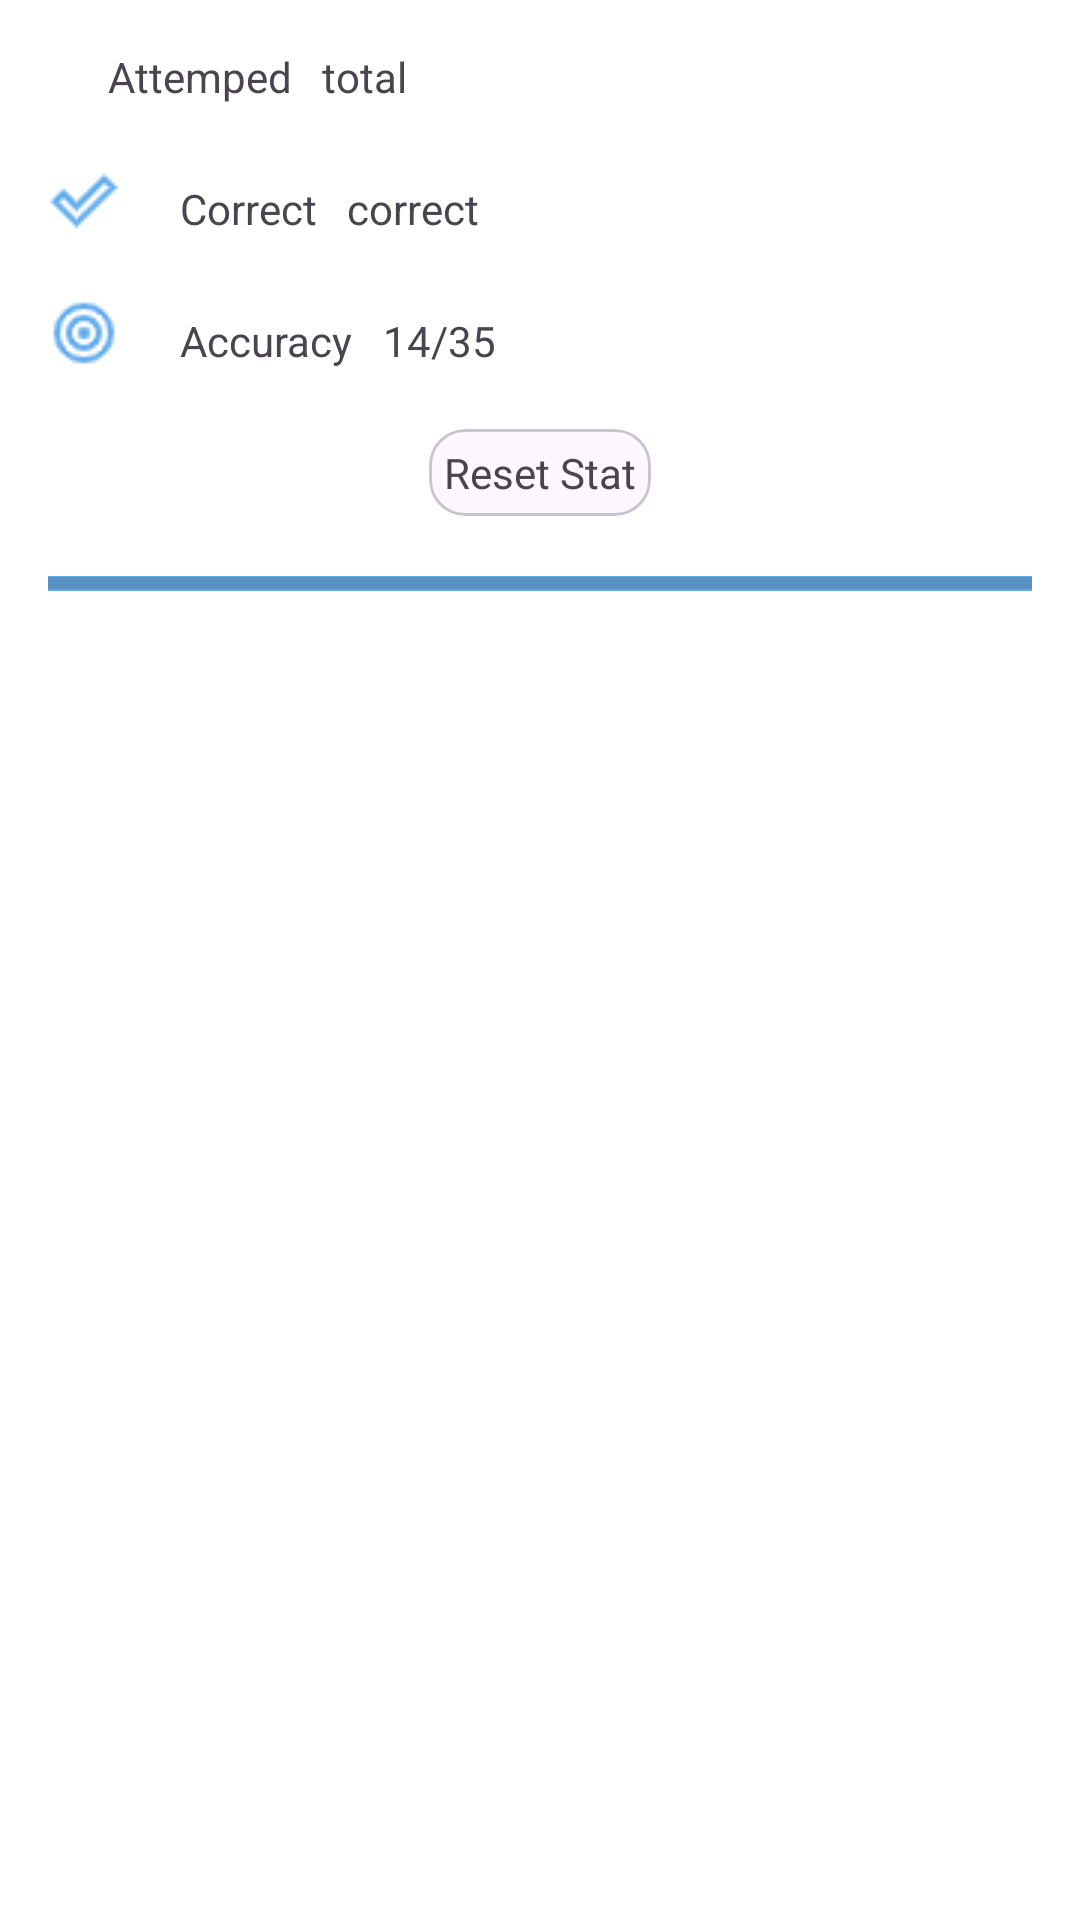

Screen size 1080 x 1920. Icon name, then its center in pixels as [x,y]:
done: [85,201]
target: [84,333]
